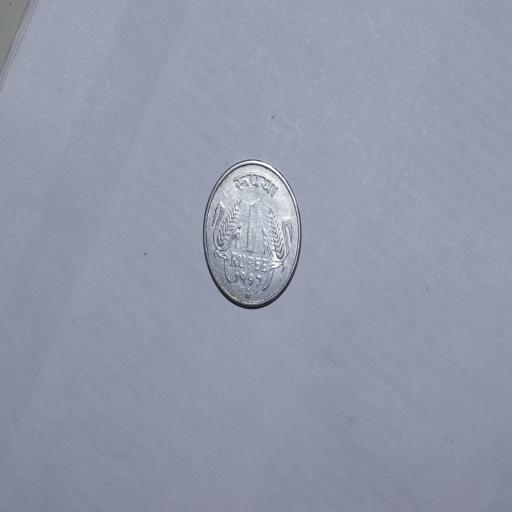rupee1: (199, 157, 304, 312)
